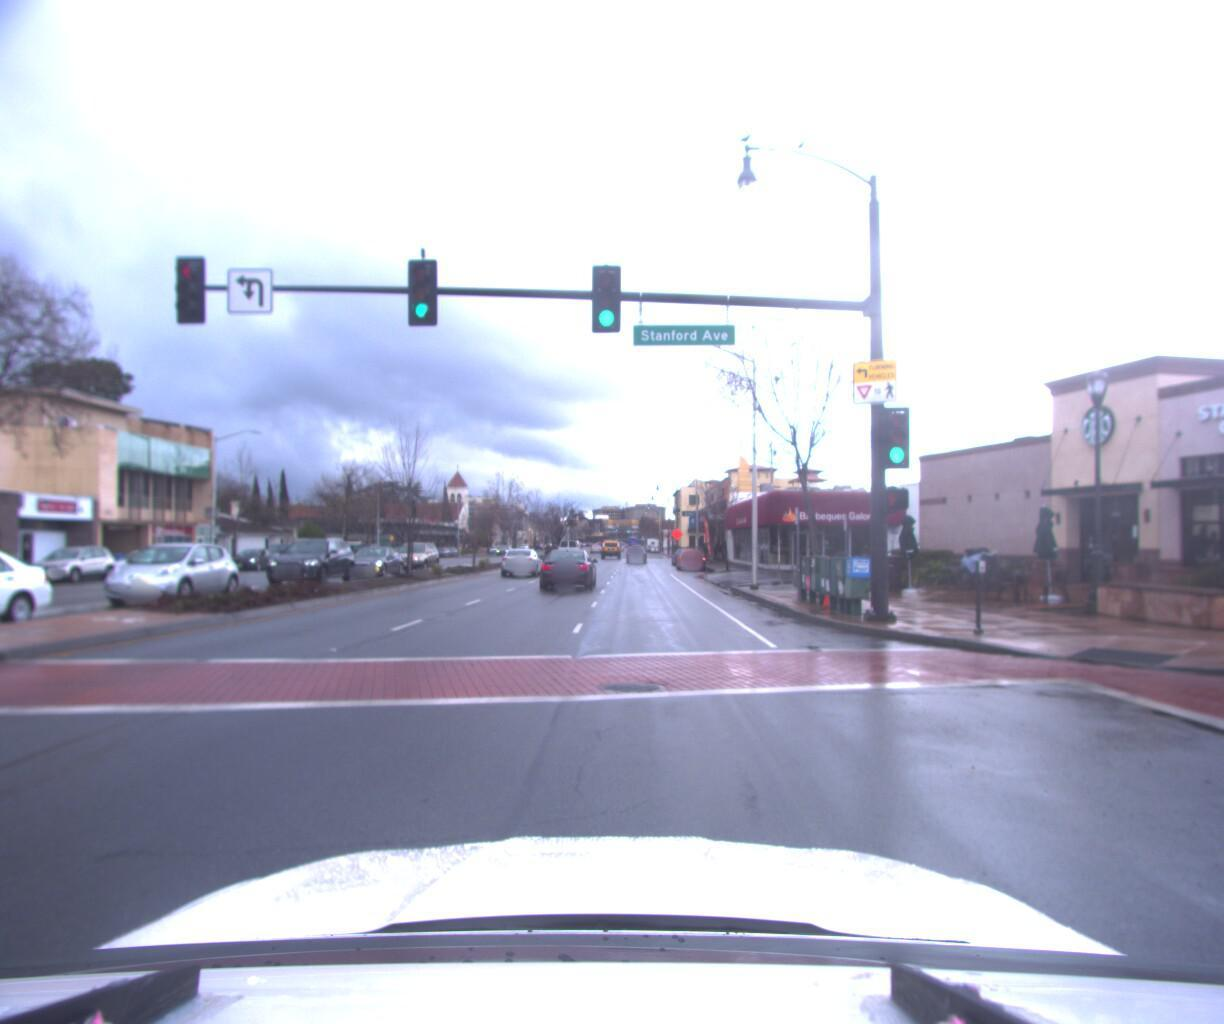car: (86, 542, 246, 612), (265, 537, 358, 588), (21, 545, 123, 588), (103, 547, 191, 582), (539, 544, 599, 592), (340, 542, 408, 578), (387, 537, 441, 573), (496, 542, 546, 576), (224, 546, 281, 571), (558, 537, 586, 563), (676, 542, 706, 566), (626, 545, 647, 562)
